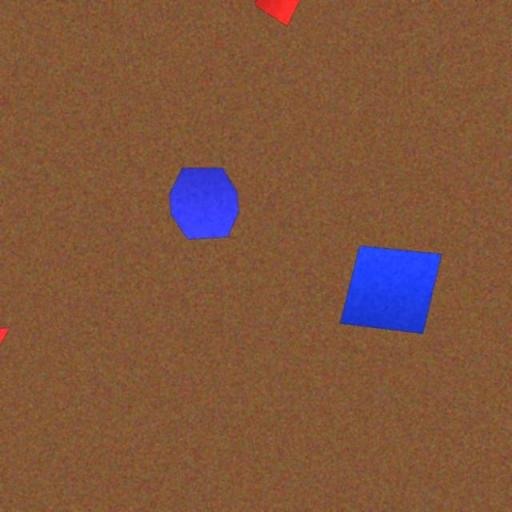BLUE_SQUARE: (340, 245, 442, 334)
RED_SQUARE: (254, 0, 307, 27)
